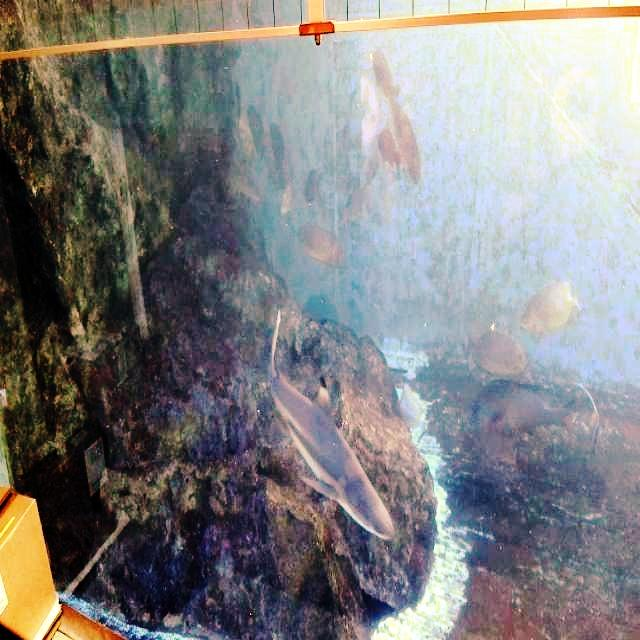angelfish: (567, 375, 612, 471)
gold snapper: (466, 372, 572, 458), (511, 274, 592, 346), (460, 315, 532, 390)
shark: (251, 295, 408, 557)
